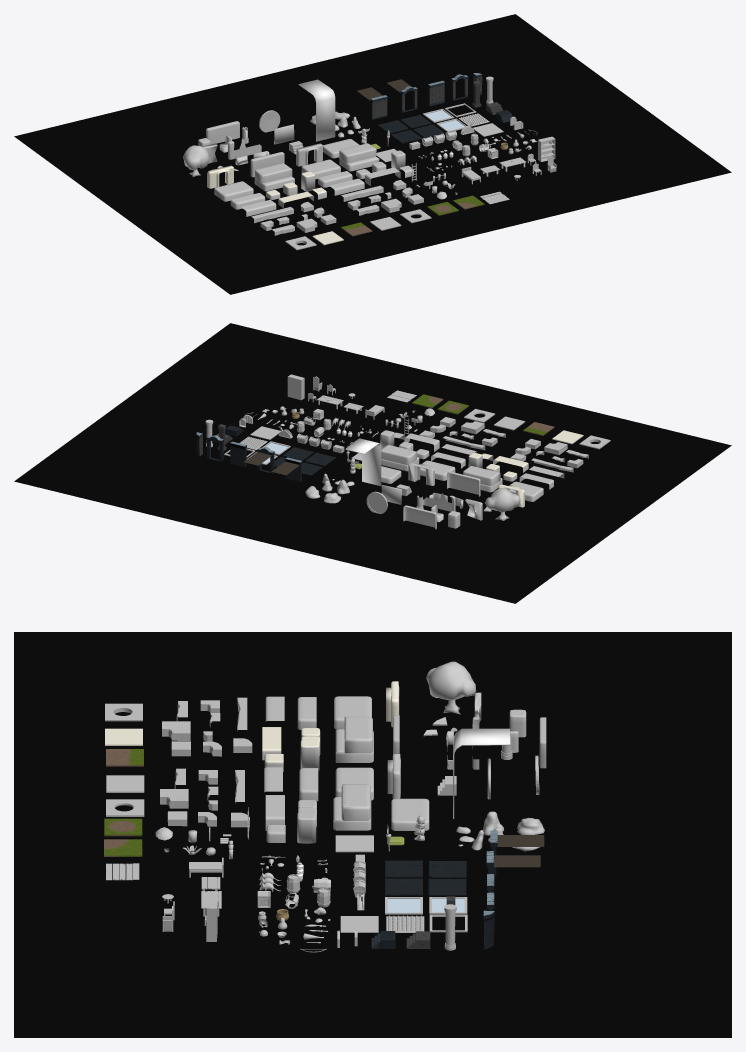
The model's file is AdventureGameModularPack.fbx.
3 views of the same model, one above another, from view 1: azimuth 30°, elevation 25°; view 2: azimuth 150°, elevation 25°; view 3: azimuth 270°, elevation 25° (orthographic). The views are drawn at different scales.
Parts seen in each view (by area): view 1: Ground, WaterFall, Grass_env_mod6, Sand_env_mod6, ruins_module_02_end_a.003, Sand_env_mod7, DungeonWall_mod1, Tree3, Grass_env_mod7; view 2: Ground, WaterFall, Grass_env_mod6, Tree3, Sand_env_mod6, Sand_module_02_end_a.003 (1), ruins_module_02_end_a.003, DungeonWall_mod1; view 3: Ground, Grass_env_mod6, Sand_env_mod6, Tree3, WaterFall, Grass_env_mod9, Sand_env_mod7, Grass_env_mod7, DungeonWall_mod1, DungeonEntrance, GroundTileGrassSandIII, GroundTileGrassSandII (+10 smaller).
Boxes of the visible parts, x1,y1,x2,y2 form: Ground: (14,14,731,294); WaterFall: (298,79,335,141); Grass_env_mod6: (339,143,379,171); Sand_env_mod6: (254,163,294,191); ruins_module_02_end_a.003: (206,121,239,144); Sand_env_mod7: (214,181,253,201); DungeonWall_mod1: (357,87,387,119); Tree3: (183,145,209,170); Grass_env_mod7: (301,159,340,179); Ground: (14,323,731,603); WaterFall: (345,438,381,486); Grass_env_mod6: (381,445,419,471); Tree3: (485,487,520,512); Sand_env_mod6: (463,465,502,492); Sand_module_02_end_a.003 (1): (447,471,480,496); ruins_module_02_end_a.003: (403,505,436,529); DungeonWall_mod1: (271,457,302,481); Ground: (14,632,731,1037); Grass_env_mod6: (333,784,371,830); Sand_env_mod6: (335,716,373,762); Tree3: (426,661,476,699); WaterFall: (453,728,510,818); Grass_env_mod9: (391,798,429,830); Sand_env_mod7: (334,696,371,729); Grass_env_mod7: (335,767,373,800); DungeonWall_mod1: (490,830,544,875); DungeonEntrance: (486,851,540,892); GroundTileGrassSandIII: (104,818,142,836); GroundTileGrassSandII: (104,839,142,856).
Bounding box in the file's own units: 101 × 10.44 × 75.31.
